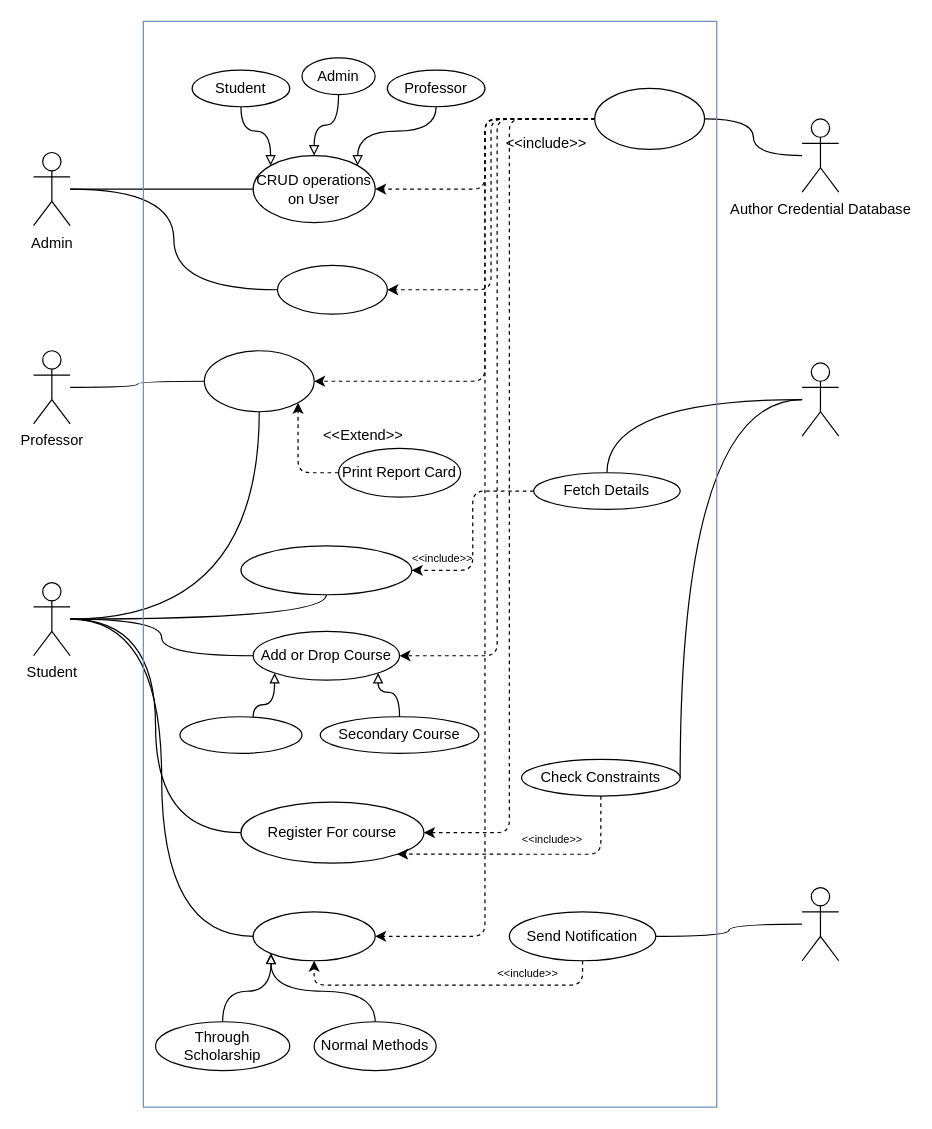
This 932x1129 diagram has some shape labels left out. Here are the shapes that lost their labels. From the top down, the centre of each, then its label:
[649,118]: Check Identity
[331,289]: CRUD Course
[258,381]: Generate Report Card
[820,399]: Course Catalog Database
[326,570]: View Course catalog
[240,734]: Primary Course
[313,936]: Pay Fees
[820,923]: Notification System
